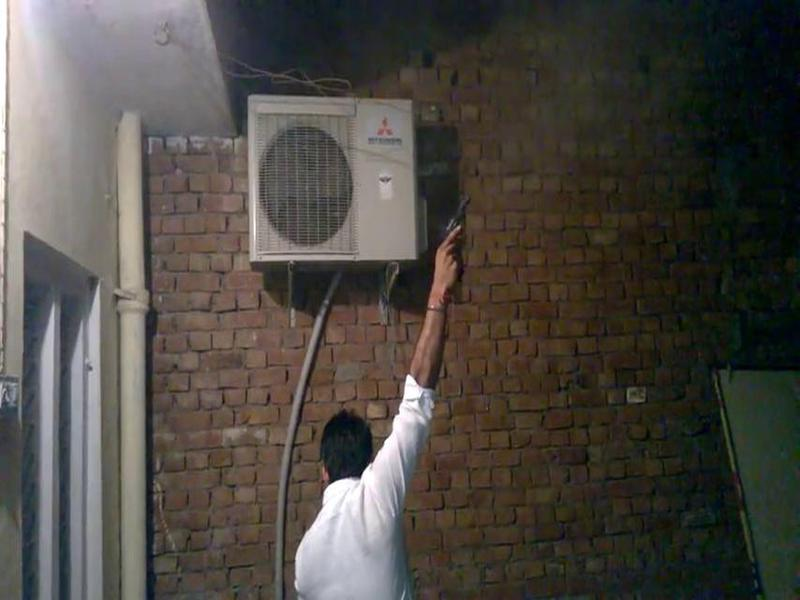Revolver: (439, 193, 488, 280)
